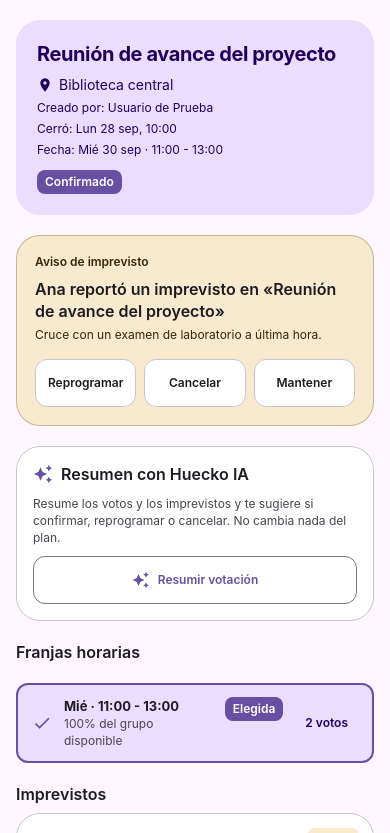
quien gestiona el plan resuelve el aviso desde el detalle
This screenshot has width=390, height=833.
Expected: the text "Aviso de imprevisto" is shown, [35,254,149,269]
What coordinates should you click on to do the following:
click the button "Mantener"
I would click on:
 (304, 383)
Its box is [254,359,355,407].
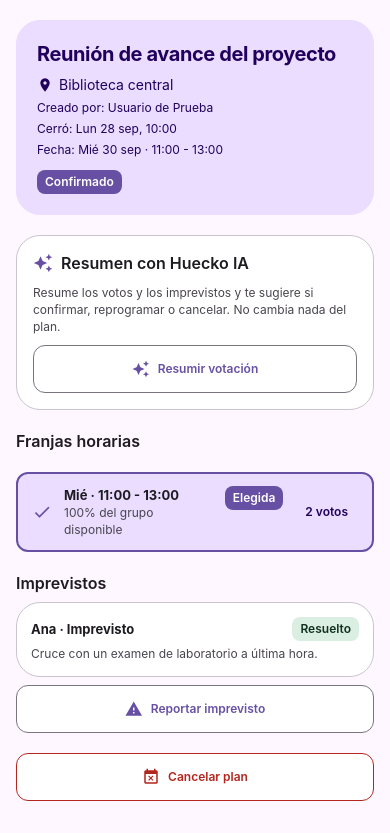
Now the text "Aviso de imprevisto" is gone
Now the text "Resuelto" is shown, box [300,621,351,637]
